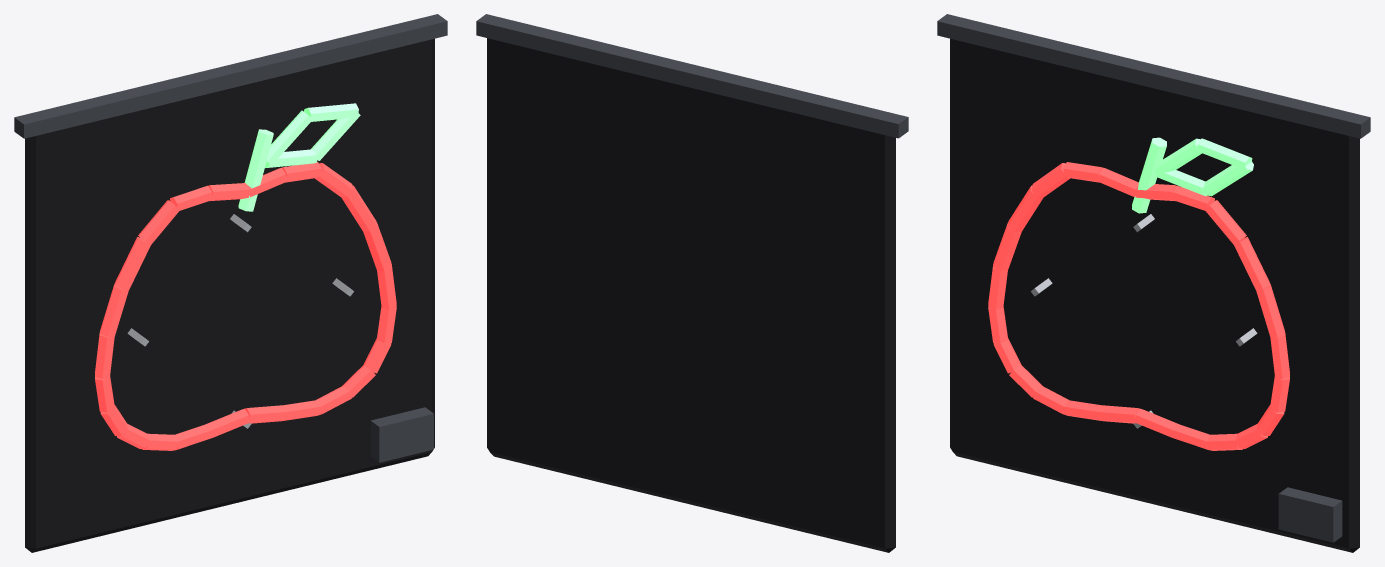
Rendered from Neon_Apple_Market.glb.
3 views of the same model, side by side, from view 1: azimuth 30°, elevation 25°; view 2: azimuth 150°, elevation 25°; view 3: azimuth 330°, elevation 25° (orthographic).
Parts seen in each view (by area): view 1: Neon_Apple_Market; view 2: Neon_Apple_Market; view 3: Neon_Apple_Market.
Part boxes in pixels (bbox=[...]): Neon_Apple_Market: bbox=[14, 14, 447, 552]; Neon_Apple_Market: bbox=[476, 14, 908, 552]; Neon_Apple_Market: bbox=[937, 14, 1370, 552].
Size of the model in its own units: 1.24 by 1.22 by 0.1191.
1 material, 1 textured.
